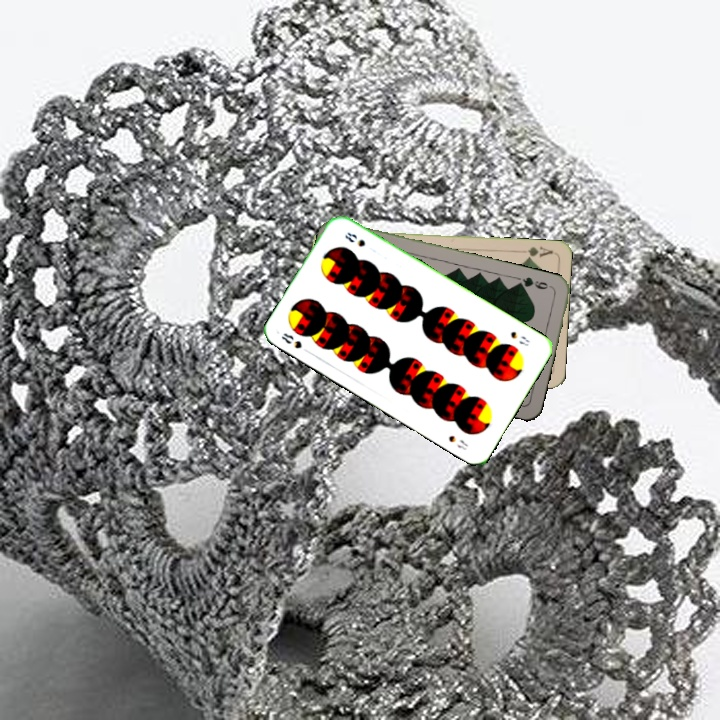G9: (514, 273, 550, 292)
GA: (515, 242, 555, 262)
S8: (277, 329, 313, 356), (506, 327, 532, 349)
